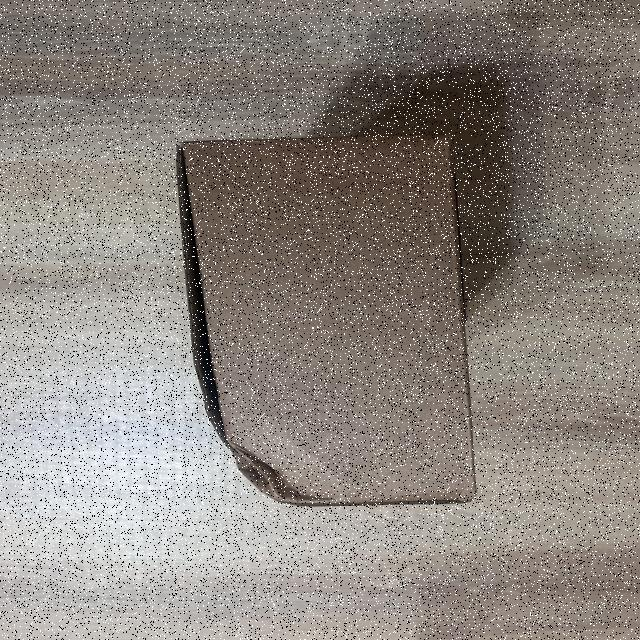damaged: (164, 129, 484, 509), (198, 398, 362, 510)
